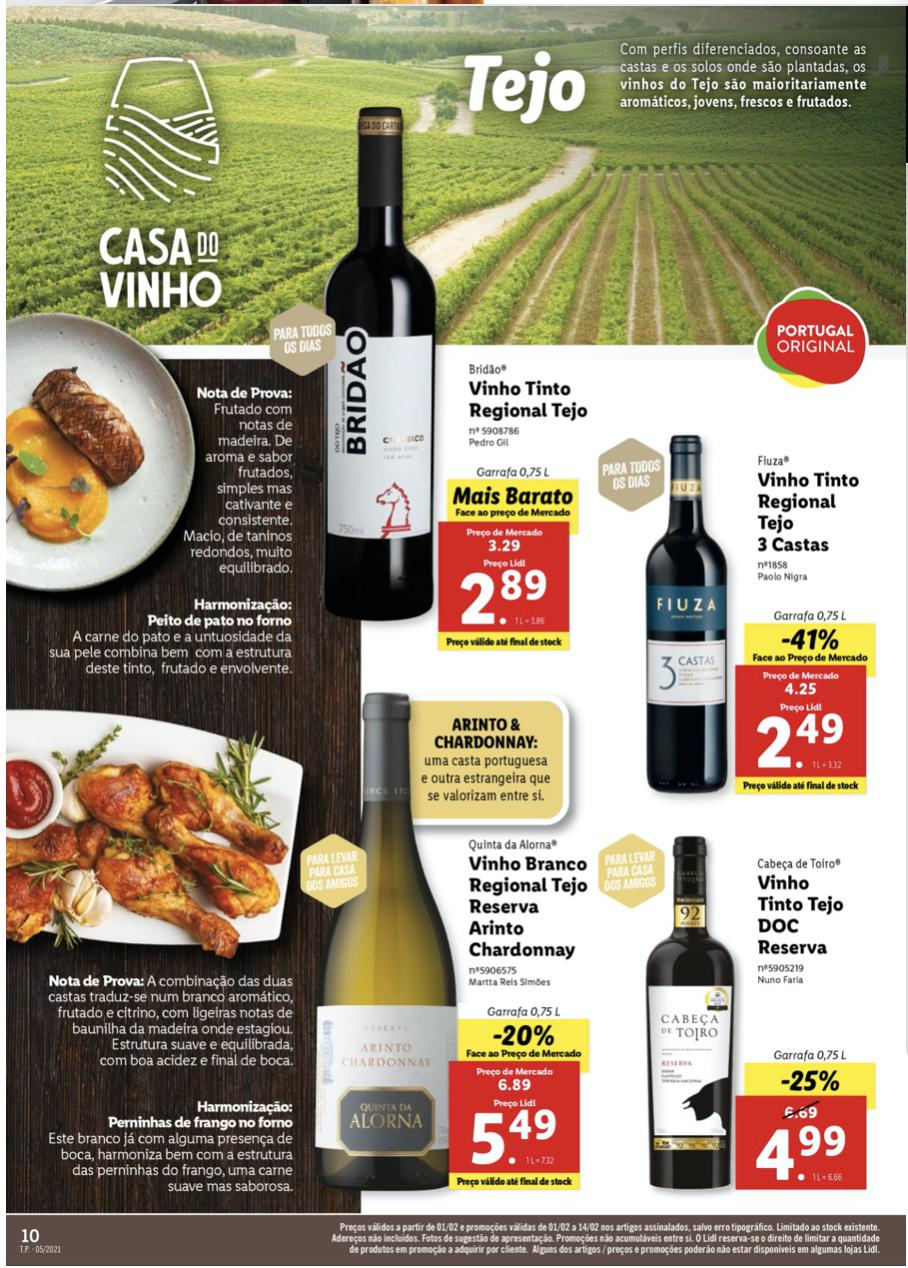name: (461, 853, 591, 964), (749, 464, 866, 560), (755, 870, 849, 963), (464, 377, 586, 428)
price: (463, 1092, 571, 1174), (747, 1110, 850, 1188), (460, 558, 564, 635), (754, 699, 852, 777)
product: (293, 106, 586, 675), (311, 688, 596, 1192), (586, 425, 899, 813), (602, 835, 885, 1194)
promotion: (486, 1016, 560, 1050), (774, 1064, 847, 1097), (772, 625, 844, 655)
